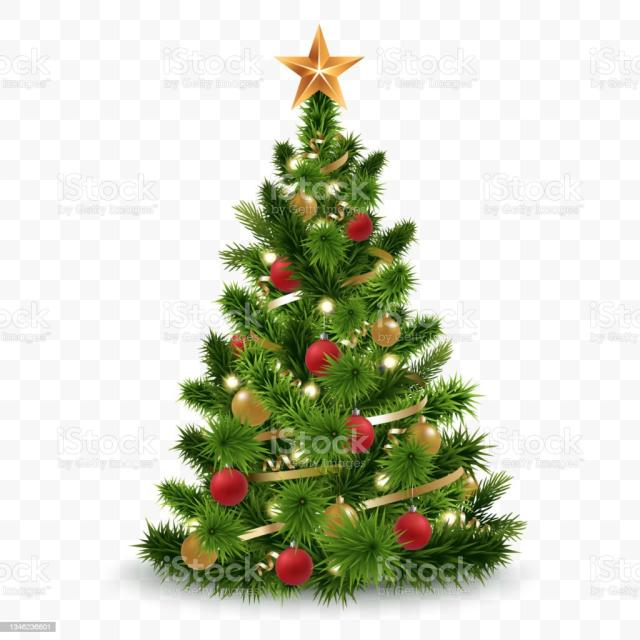Christmas-tree: (136, 23, 530, 594)
